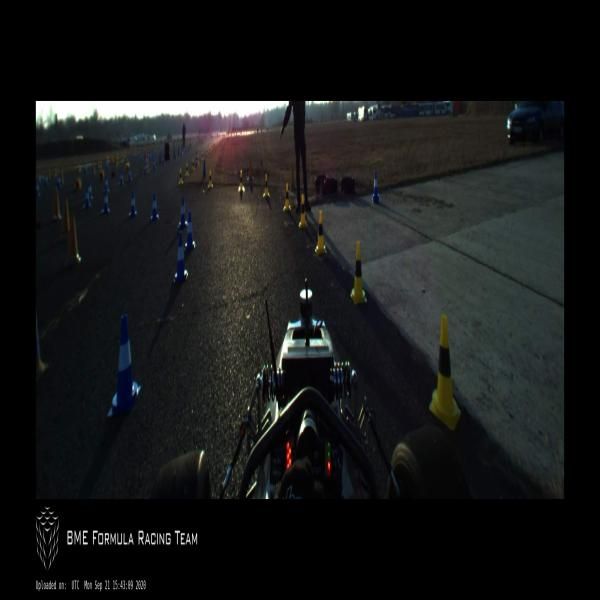blue_cone: (107, 314, 141, 418), (174, 231, 188, 280), (184, 210, 195, 250), (178, 196, 187, 228), (150, 192, 158, 220), (129, 192, 137, 216), (102, 188, 110, 212), (373, 170, 379, 199), (84, 185, 90, 207), (103, 175, 109, 193), (88, 182, 93, 200), (119, 172, 124, 185), (128, 168, 132, 180), (58, 172, 61, 188), (152, 159, 156, 170), (162, 155, 165, 165), (45, 176, 48, 186), (144, 163, 146, 175), (85, 164, 87, 173), (42, 174, 44, 182), (140, 154, 142, 160), (133, 151, 134, 158)
large_orange_cone: (144, 154, 148, 173), (146, 154, 150, 172), (195, 151, 198, 169)
yellow_cone: (430, 314, 461, 432), (350, 241, 367, 304), (315, 210, 327, 254), (298, 194, 307, 227), (284, 183, 291, 211), (238, 170, 244, 192), (263, 175, 269, 196), (208, 170, 213, 188), (178, 169, 183, 183), (185, 163, 189, 176), (197, 154, 200, 166), (201, 151, 204, 162), (99, 158, 102, 168), (192, 159, 194, 171), (122, 154, 125, 162), (78, 164, 81, 172), (54, 168, 57, 176), (116, 154, 118, 164), (206, 148, 208, 156), (212, 144, 214, 149), (121, 155, 122, 162), (209, 146, 210, 152), (212, 146, 212, 150)
